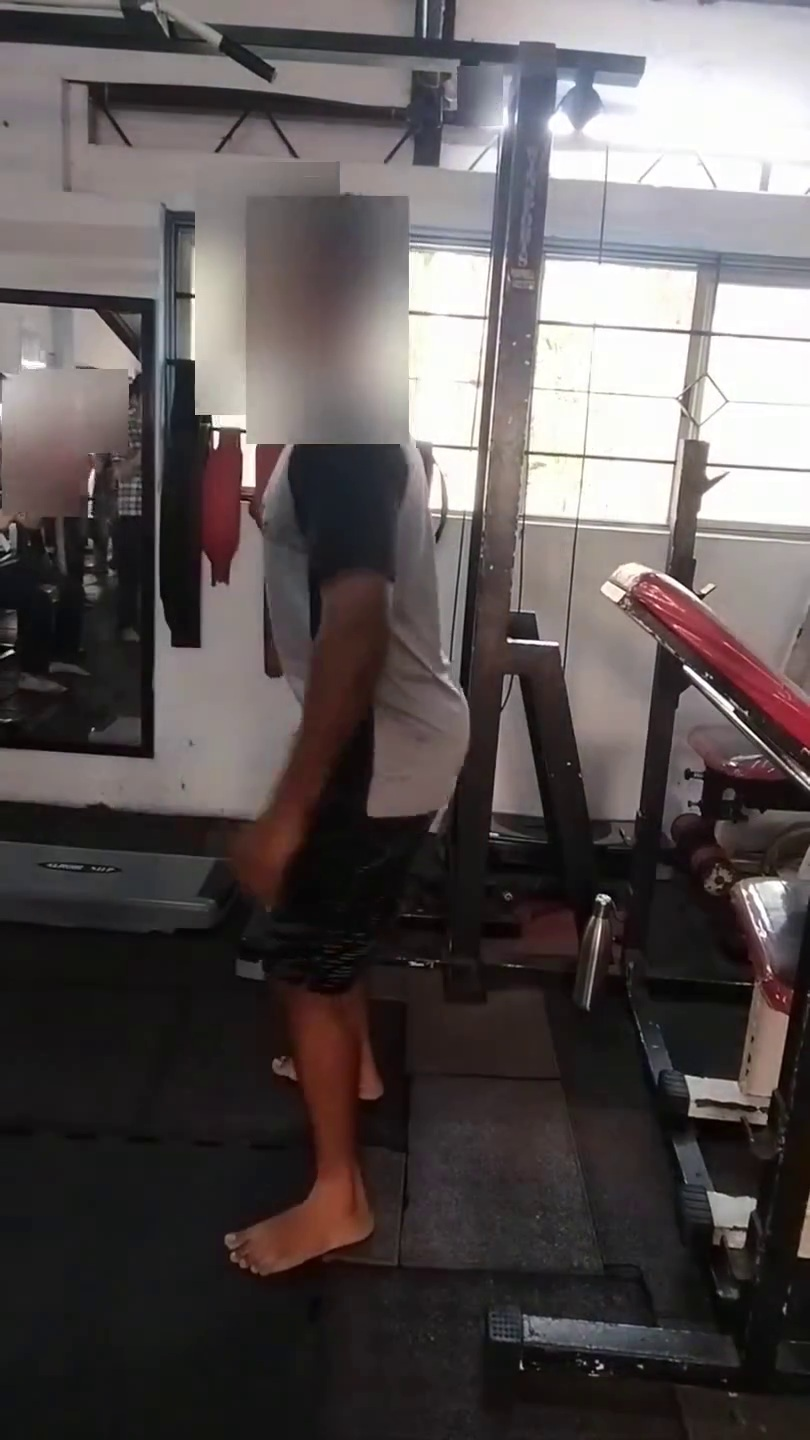squat: (267, 675, 611, 1196)
